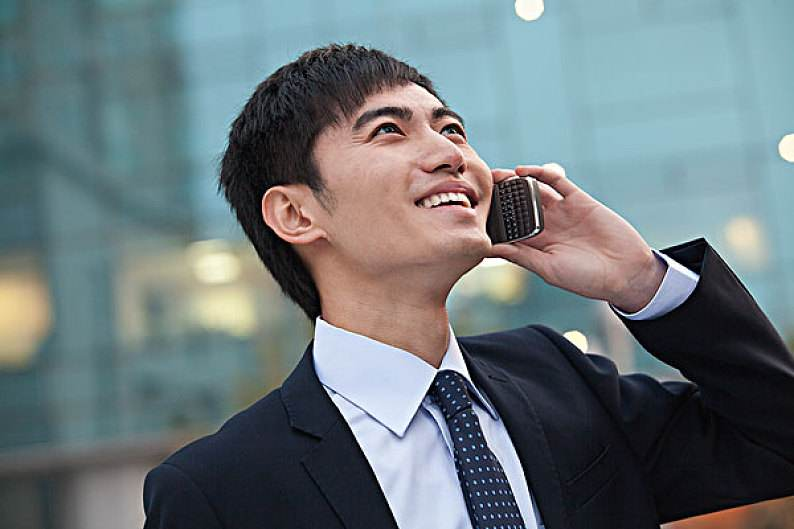calling: (472, 159, 654, 303)
